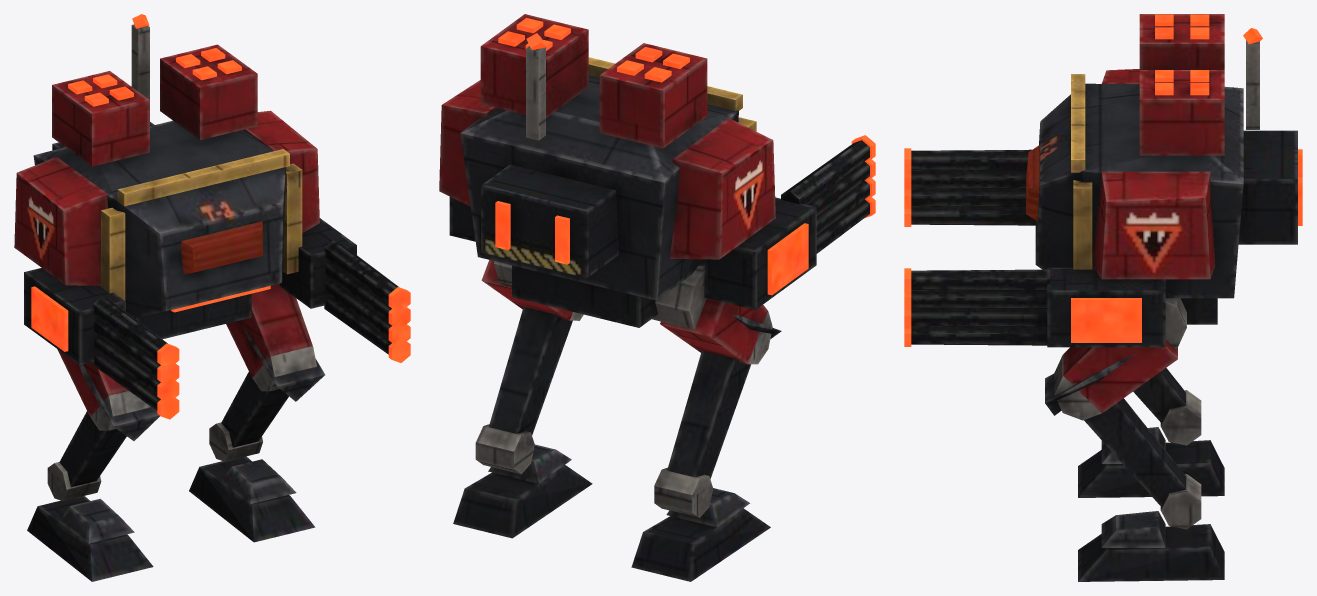
File: u_titan3_e.glb
3 renders of one model, left to right at view 1: azimuth 30°, elevation 25°; view 2: azimuth 150°, elevation 25°; view 3: azimuth 270°, elevation 25°, orthographic. The views are drawn at different scales.
Parts seen in each view (by area): view 1: u_titan3_e; view 2: u_titan3_e; view 3: u_titan3_e.
Boxes of the visible parts, <box> form: u_titan3_e: <box>14,14,410,581</box>; u_titan3_e: <box>439,14,875,581</box>; u_titan3_e: <box>904,14,1302,581</box>.
Bounding box in the file's own units: 1.74 × 2.78 × 1.98.
Materials: 1 (1 with a texture image).
